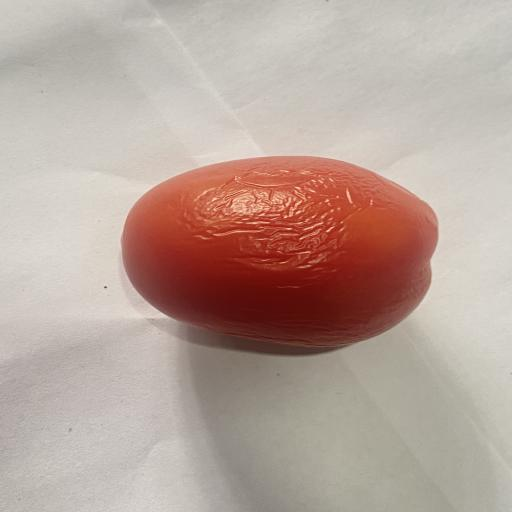spoiled: (122, 156, 438, 347)
